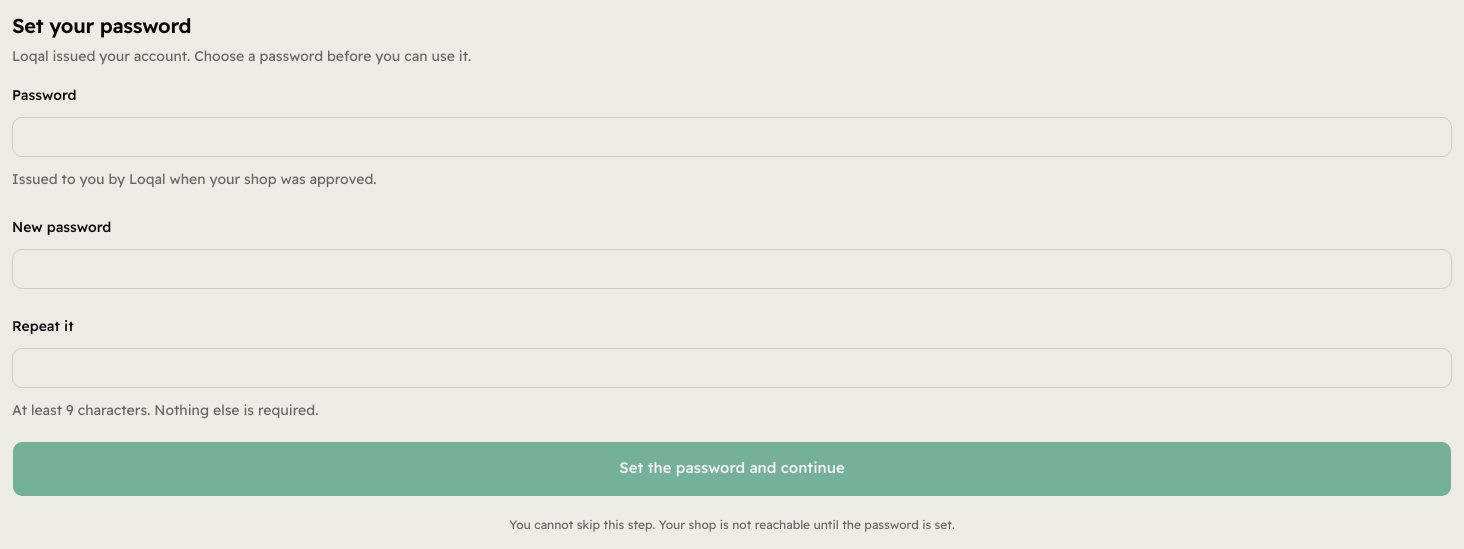
Test case: /set-password — first login, with a session › refuses two passwords that differ, before submit
This screenshot has width=1464, height=549.
Type "nine chars ok" into the password field labelled "New password" at (732, 269), box [12,249,1452,289]
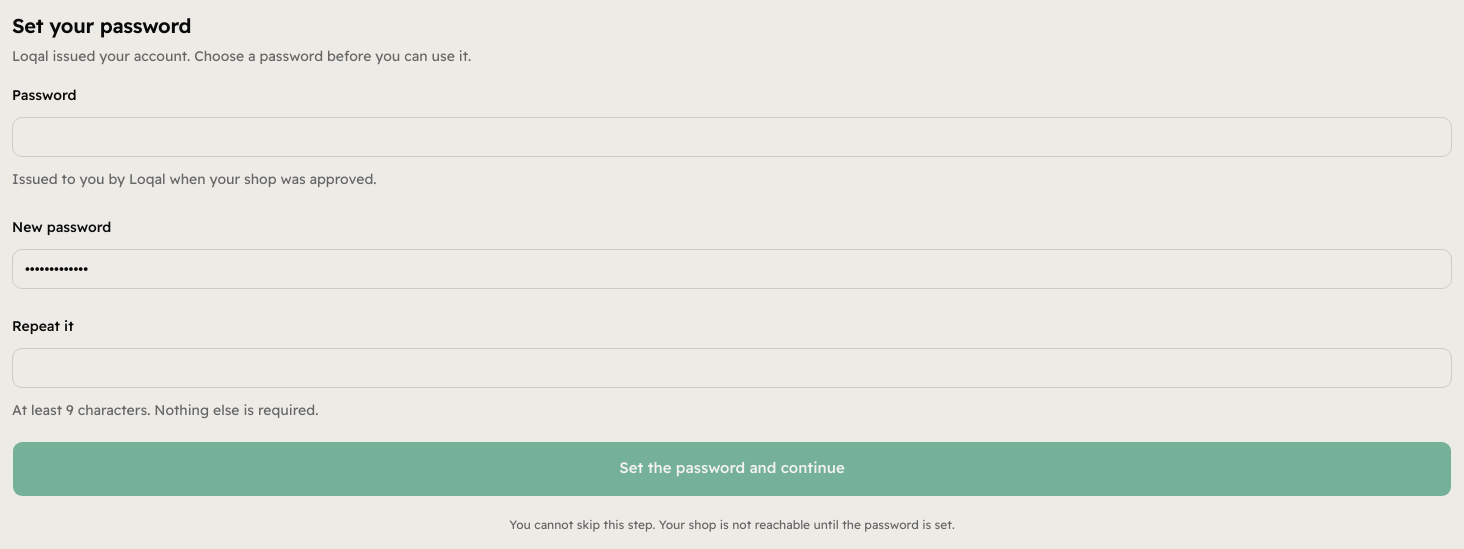
Type "nine chars no" into the password field labelled "Repeat it" at (732, 368), box [12,348,1452,388]
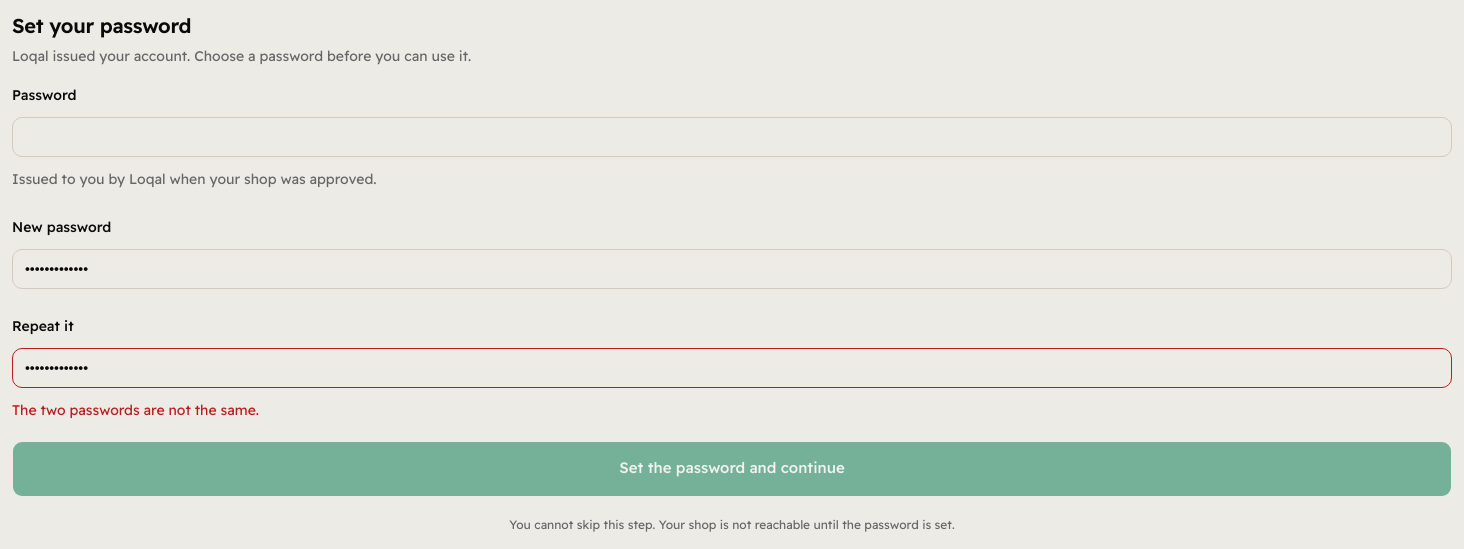
Expected: the button "Set the password and continue" is disabled, [12,441,1452,497]
Now the text "The two passwords are not the same." is shown, box [12,401,259,419]
